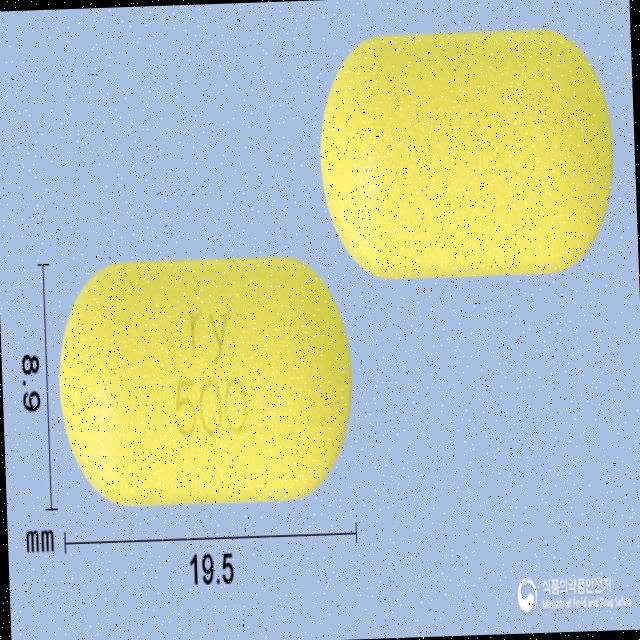Reyon Clarithromycin Tab: (54, 252, 356, 510), (318, 26, 616, 278)
